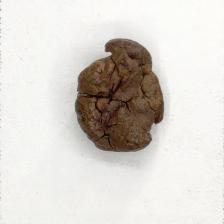NG: (76, 38, 163, 151)
